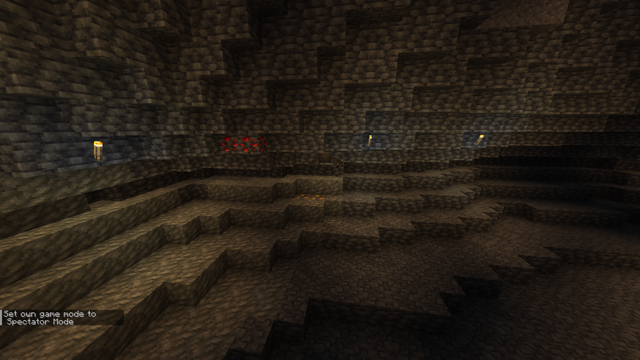gold: (294, 189, 326, 203)
redstone: (219, 134, 268, 156)
